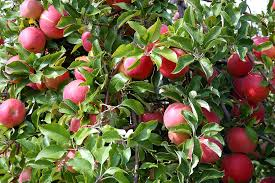apple: (153, 49, 192, 81), (186, 135, 227, 165), (122, 54, 158, 81), (225, 126, 259, 154), (241, 71, 269, 103), (220, 153, 254, 178), (166, 103, 195, 132), (41, 5, 68, 33), (226, 50, 254, 76), (1, 100, 26, 127), (64, 79, 88, 106), (19, 29, 46, 52), (20, 1, 41, 20)
